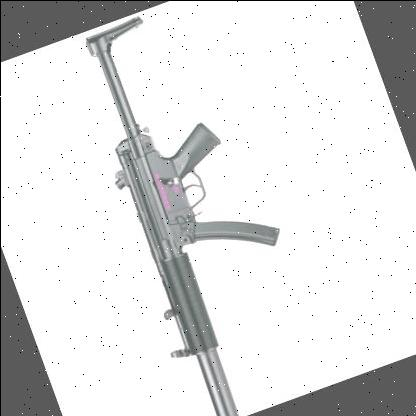rifle: (34, 0, 336, 416)
